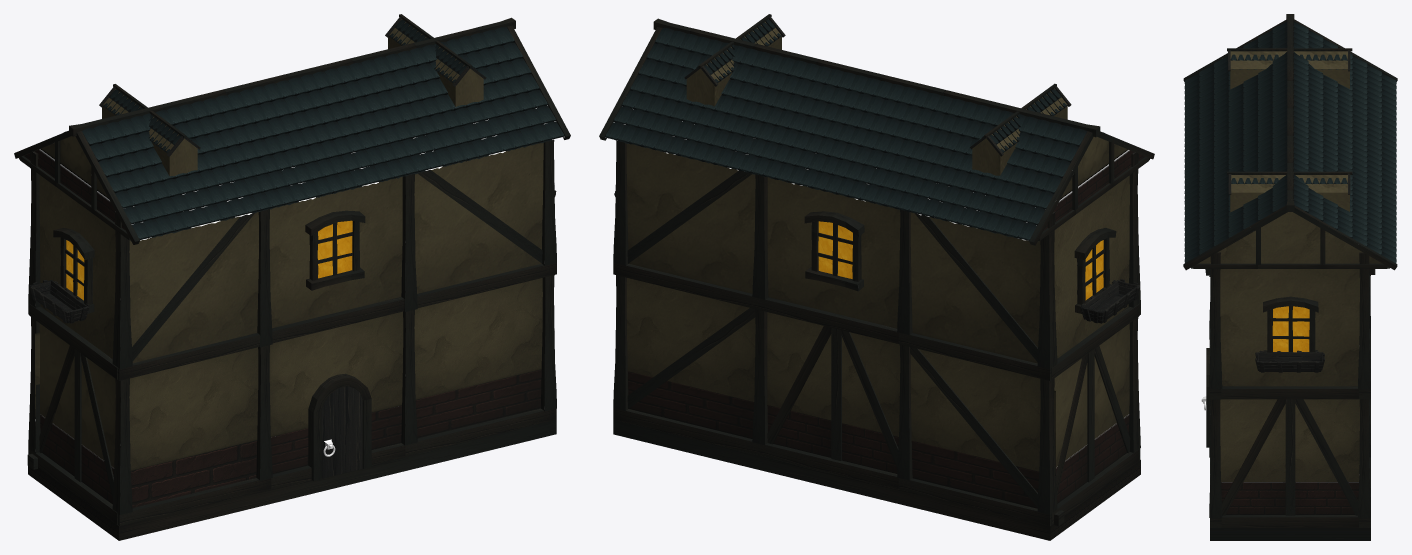
File: Normal.House.002.glb
The picture shows the model from 3 angles, left to right: view 1: azimuth 30°, elevation 25°; view 2: azimuth 150°, elevation 25°; view 3: azimuth 270°, elevation 25°; orthographic projection. The views are drawn at different scales.
Parts seen in each view (by area): view 1: Normal.House.002; view 2: Normal.House.002; view 3: Normal.House.002.
Boxes of the visible parts, x1,y1,x2,y2 form: Normal.House.002: (14,14,570,540); Normal.House.002: (599,14,1154,540); Normal.House.002: (1183,14,1397,540).
Size of the model in its own units: 11.06 by 8.16 by 4.71.
2 materials, 2 textured.
